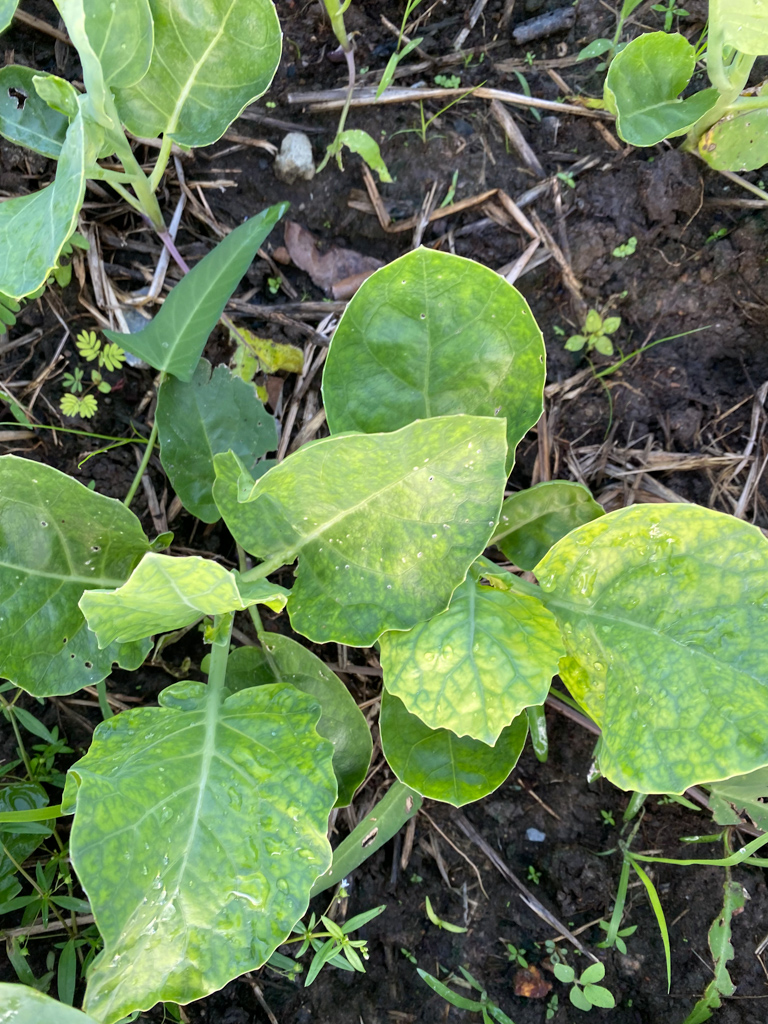Pepper yellow leaf: (535, 500, 738, 613)
